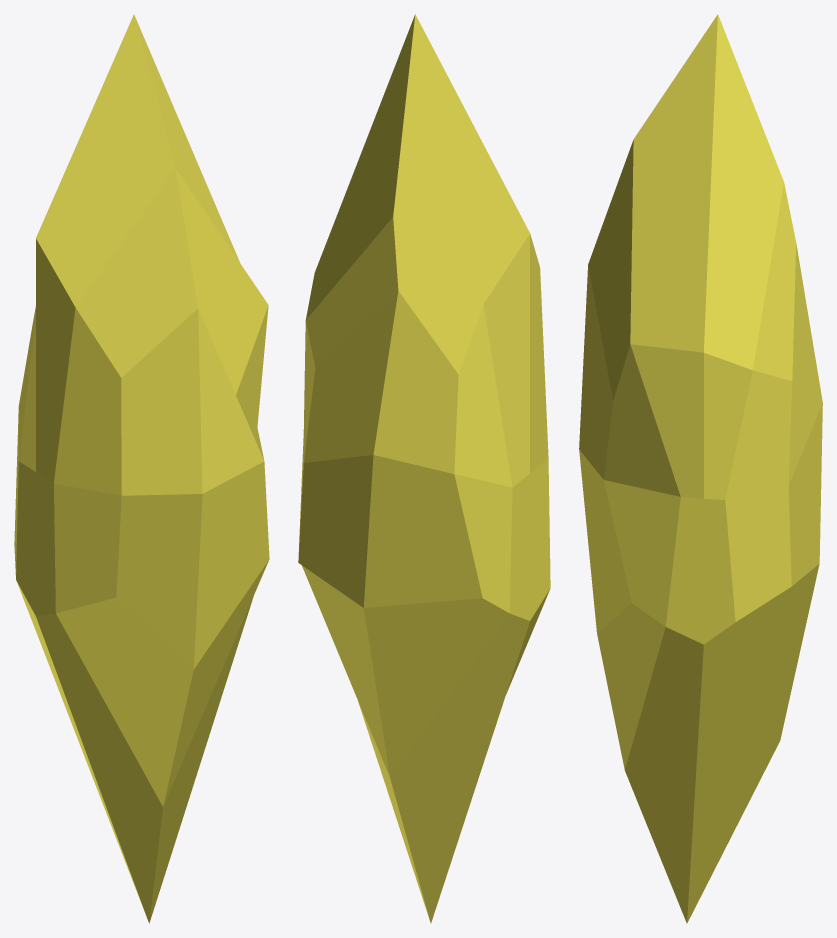
The model's file is itemCrystal.obj.
The picture shows the model from 3 angles, left to right: view 1: azimuth 30°, elevation 25°; view 2: azimuth 150°, elevation 25°; view 3: azimuth 270°, elevation 25°; orthographic projection. The views are drawn at different scales.
Visible parts, largest first — view 1: Cube; view 2: Cube; view 3: Cube.
Boxes of the visible parts, x1,y1,x2,y2 form: Cube: (14,14,269,923); Cube: (298,14,550,923); Cube: (579,14,822,923).
Size of the model in its own units: 1.63 by 6.67 by 1.62.
Materials: 1 (1 with a texture image).
